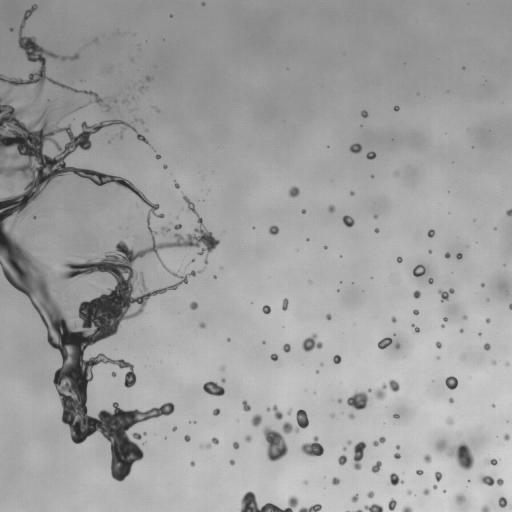droplet: (300, 435, 324, 457), (301, 333, 323, 352), (202, 381, 225, 397), (266, 404, 283, 420), (387, 472, 404, 486), (376, 337, 392, 349), (370, 460, 382, 475), (454, 490, 466, 505), (445, 376, 458, 389), (250, 413, 262, 427), (413, 264, 425, 277), (288, 186, 300, 198), (342, 215, 354, 227), (349, 142, 362, 153), (497, 496, 508, 508), (388, 497, 397, 511), (337, 454, 348, 465), (75, 110, 86, 121), (124, 129, 135, 140), (64, 155, 75, 166), (13, 185, 24, 196), (332, 209, 343, 220), (163, 215, 174, 226), (203, 221, 214, 232), (206, 262, 217, 273), (200, 270, 211, 281), (270, 300, 281, 311), (117, 319, 128, 330), (464, 324, 475, 335), (291, 340, 302, 351), (82, 348, 93, 359), (51, 357, 62, 368), (209, 394, 220, 405), (444, 404, 455, 415), (87, 407, 98, 418), (262, 413, 273, 424), (271, 420, 282, 431), (60, 424, 71, 435), (91, 429, 102, 440), (281, 432, 292, 443), (219, 437, 230, 448), (449, 437, 460, 448), (100, 438, 111, 449), (257, 439, 268, 450), (383, 441, 394, 452), (467, 445, 478, 456), (102, 450, 113, 461), (448, 455, 459, 466), (360, 456, 371, 467), (130, 460, 141, 471), (470, 461, 481, 472), (333, 464, 344, 475), (424, 464, 435, 475), (485, 465, 496, 476), (456, 466, 467, 477), (379, 467, 390, 478), (232, 499, 243, 510), (121, 93, 130, 106), (268, 225, 279, 235), (422, 453, 432, 463), (411, 323, 420, 334), (242, 400, 251, 411), (434, 470, 442, 482), (281, 298, 288, 311), (262, 304, 271, 314), (282, 342, 290, 353), (189, 301, 198, 310), (445, 416, 454, 425), (22, 28, 31, 37), (72, 126, 81, 135), (123, 172, 132, 181), (347, 209, 356, 218), (178, 227, 187, 236), (154, 234, 163, 243), (146, 296, 155, 305), (411, 298, 420, 307), (412, 315, 421, 324), (275, 347, 284, 356), (91, 364, 100, 373), (372, 380, 381, 389), (85, 382, 94, 391), (357, 384, 366, 393), (120, 402, 129, 411), (138, 403, 147, 412), (54, 405, 63, 414), (244, 410, 253, 419), (124, 428, 133, 437), (229, 449, 238, 458), (345, 449, 354, 458), (429, 449, 438, 458), (417, 460, 426, 469), (447, 488, 456, 497), (278, 500, 287, 509), (366, 151, 376, 159), (333, 354, 341, 364), (350, 493, 358, 503), (327, 204, 335, 213), (270, 353, 279, 361), (244, 434, 252, 443), (173, 179, 180, 189), (480, 504, 490, 511), (401, 505, 412, 511), (505, 476, 511, 487), (454, 505, 465, 511), (491, 505, 502, 511), (360, 110, 368, 118), (413, 290, 421, 298), (483, 342, 491, 350), (332, 477, 340, 485), (366, 490, 374, 498), (89, 37, 98, 44), (174, 223, 182, 230), (427, 229, 434, 237), (198, 321, 206, 328), (212, 408, 220, 415), (348, 412, 355, 420), (503, 433, 510, 441), (232, 441, 239, 449), (393, 452, 401, 459), (422, 488, 430, 495), (23, 0, 34, 5), (0, 81, 5, 92), (0, 174, 5, 185), (0, 190, 5, 201), (34, 38, 41, 45), (18, 48, 25, 55), (56, 48, 63, 55), (44, 55, 51, 62), (34, 60, 41, 67), (44, 69, 51, 76), (21, 73, 28, 80), (128, 100, 135, 107), (119, 103, 126, 110), (135, 111, 142, 118), (59, 120, 66, 127), (113, 123, 120, 130), (88, 133, 95, 140), (360, 147, 367, 154), (86, 163, 93, 170), (97, 166, 104, 173), (133, 182, 140, 189), (284, 183, 291, 190), (149, 215, 156, 222), (212, 232, 219, 239), (449, 251, 456, 258), (420, 274, 427, 281), (298, 334, 305, 341), (53, 348, 60, 355), (112, 353, 119, 360), (496, 360, 503, 367), (112, 364, 119, 371), (395, 377, 402, 384), (384, 386, 391, 393), (448, 388, 455, 395), (277, 405, 284, 412), (348, 405, 355, 412), (107, 406, 114, 413), (159, 413, 166, 420), (281, 414, 288, 421), (147, 417, 154, 424), (291, 420, 298, 427), (257, 422, 264, 429), (448, 424, 455, 431), (128, 435, 135, 442), (306, 437, 313, 444), (351, 438, 358, 445), (238, 439, 245, 446), (201, 447, 208, 454), (261, 452, 268, 459), (311, 454, 318, 461), (279, 455, 286, 462), (124, 474, 131, 481), (436, 480, 443, 487), (238, 490, 245, 497), (416, 490, 423, 497), (463, 490, 470, 497), (366, 498, 373, 505), (462, 499, 469, 506), (256, 501, 263, 508), (304, 501, 311, 508), (505, 208, 511, 216), (435, 341, 441, 349), (184, 434, 190, 442), (506, 495, 511, 504), (393, 506, 402, 511), (500, 506, 509, 511), (444, 251, 450, 258), (396, 256, 402, 263), (413, 309, 420, 315), (325, 313, 331, 320), (219, 364, 225, 371), (447, 397, 454, 403), (286, 408, 292, 415), (456, 430, 462, 437), (228, 459, 235, 465), (416, 469, 423, 475), (410, 505, 417, 511), (456, 253, 462, 259), (0, 271, 4, 280), (428, 277, 433, 284), (391, 316, 396, 323), (393, 106, 399, 111), (155, 154, 161, 159), (395, 343, 400, 349), (111, 371, 116, 377), (337, 398, 343, 403), (393, 413, 399, 418), (190, 460, 195, 466), (302, 480, 308, 485), (406, 489, 411, 495), (507, 215, 511, 222), (291, 507, 298, 511), (382, 507, 389, 511), (474, 507, 481, 511), (349, 190, 354, 195), (301, 209, 306, 214), (373, 214, 378, 219), (374, 228, 379, 233), (480, 282, 485, 287), (462, 315, 467, 320), (485, 318, 490, 323), (491, 360, 496, 365), (505, 361, 510, 366), (172, 426, 177, 431), (395, 444, 400, 449), (432, 484, 437, 489), (26, 4, 31, 9), (31, 10, 36, 15), (19, 12, 24, 17), (25, 18, 30, 23), (14, 25, 19, 30), (14, 35, 19, 40), (14, 41, 19, 46), (51, 48, 56, 53), (69, 51, 74, 56), (78, 51, 83, 56), (55, 57, 60, 62), (64, 58, 69, 63), (73, 58, 78, 63), (147, 71, 152, 76), (51, 75, 56, 80), (140, 76, 145, 81), (61, 79, 66, 84), (143, 80, 148, 85), (128, 81, 133, 86), (136, 81, 141, 86), (71, 83, 76, 88), (123, 88, 128, 93), (135, 90, 140, 95), (98, 93, 103, 98), (116, 96, 121, 101), (116, 100, 121, 105), (92, 101, 97, 106), (109, 101, 114, 106), (150, 108, 155, 113), (366, 109, 371, 114), (70, 112, 75, 117), (114, 114, 119, 119), (122, 116, 127, 121), (86, 121, 91, 126), (99, 127, 104, 132), (126, 127, 131, 132), (131, 131, 136, 136), (141, 131, 146, 136), (144, 134, 149, 139), (114, 135, 119, 140), (357, 139, 362, 144), (139, 140, 144, 145), (345, 143, 350, 148), (88, 146, 93, 151), (352, 152, 357, 157), (368, 158, 373, 163), (74, 163, 79, 168), (82, 164, 87, 169), (176, 179, 181, 184), (297, 185, 302, 190), (352, 187, 357, 192), (177, 193, 182, 198), (293, 195, 298, 200), (189, 197, 194, 202), (151, 199, 156, 204), (330, 200, 335, 205), (182, 201, 187, 206), (299, 204, 304, 209), (323, 204, 328, 209), (505, 205, 510, 210), (194, 206, 199, 211), (154, 209, 159, 214), (187, 209, 192, 214), (371, 209, 376, 214), (326, 211, 331, 216), (340, 211, 345, 216), (501, 211, 506, 216), (163, 213, 168, 218), (193, 216, 198, 221), (174, 219, 179, 224), (194, 222, 199, 227), (340, 222, 345, 227), (149, 223, 154, 228), (169, 224, 174, 229), (264, 225, 269, 230), (277, 225, 282, 230), (349, 225, 354, 230), (175, 228, 180, 233), (423, 228, 428, 233), (189, 229, 194, 234), (277, 229, 282, 234), (422, 231, 427, 236), (433, 232, 438, 237), (269, 233, 274, 238), (273, 233, 278, 238), (171, 237, 176, 242), (154, 239, 159, 244), (215, 243, 220, 248), (206, 262, 211, 267), (186, 275, 191, 280), (4, 280, 9, 285), (7, 283, 12, 288), (336, 283, 341, 288), (451, 284, 456, 289), (443, 286, 448, 291), (12, 287, 17, 292), (409, 288, 414, 293), (165, 289, 170, 294), (17, 290, 22, 295), (155, 292, 160, 297), (419, 292, 424, 297), (447, 292, 452, 297), (149, 294, 154, 299), (409, 294, 414, 299), (193, 297, 198, 302), (414, 297, 419, 302), (196, 300, 201, 305), (185, 303, 190, 308), (286, 303, 291, 308), (269, 305, 274, 310), (504, 305, 509, 310), (189, 308, 194, 313), (137, 313, 142, 318), (330, 313, 335, 318), (466, 313, 471, 318), (483, 313, 488, 318), (133, 315, 138, 320), (321, 315, 326, 320), (36, 316, 41, 321), (386, 317, 391, 322), (489, 317, 494, 322), (202, 318, 207, 323), (327, 319, 332, 324), (193, 321, 198, 326), (414, 322, 419, 327), (41, 325, 46, 330), (198, 327, 203, 332), (306, 332, 311, 337), (386, 332, 391, 337), (42, 335, 47, 340), (488, 340, 493, 345), (440, 341, 445, 346), (479, 341, 484, 346), (46, 343, 51, 348), (321, 343, 326, 348), (399, 343, 404, 348), (385, 345, 390, 350), (312, 346, 317, 351), (488, 347, 493, 352), (300, 348, 305, 353), (105, 352, 110, 357), (329, 352, 334, 357), (339, 353, 344, 358), (123, 357, 128, 362), (339, 359, 344, 364), (315, 364, 320, 369), (125, 366, 130, 371), (132, 368, 137, 373), (220, 372, 225, 377), (444, 372, 449, 377), (134, 373, 139, 378), (49, 374, 54, 379), (204, 377, 209, 382), (456, 377, 461, 382), (134, 378, 139, 383), (49, 381, 54, 386), (217, 381, 222, 386), (377, 382, 382, 387), (456, 382, 461, 387), (198, 383, 203, 388), (398, 383, 403, 388), (130, 384, 135, 389), (443, 385, 448, 390), (452, 387, 457, 392), (203, 391, 208, 396), (347, 392, 352, 397), (213, 394, 218, 399), (217, 394, 222, 399), (333, 394, 338, 399), (242, 395, 247, 400), (342, 397, 347, 402), (246, 400, 251, 405), (333, 400, 338, 405), (365, 400, 370, 405), (84, 401, 89, 406), (155, 403, 160, 408), (238, 403, 243, 408), (268, 403, 273, 408), (211, 404, 216, 409), (173, 405, 178, 410), (301, 405, 306, 410), (208, 408, 213, 413), (269, 409, 274, 414), (291, 410, 296, 415), (334, 411, 339, 416), (168, 412, 173, 417), (306, 414, 311, 419), (347, 418, 352, 423), (305, 424, 310, 429), (298, 426, 303, 431), (215, 434, 220, 439), (498, 434, 503, 439), (85, 435, 90, 440), (189, 435, 194, 440), (344, 435, 349, 440), (374, 435, 379, 440), (206, 437, 211, 442), (317, 439, 322, 444), (69, 440, 74, 445), (186, 440, 191, 445), (383, 440, 388, 445), (341, 441, 346, 446), (210, 442, 215, 447), (320, 442, 325, 447), (377, 442, 382, 447), (228, 443, 233, 448), (362, 447, 367, 452), (233, 448, 238, 453), (322, 448, 327, 453), (393, 448, 398, 453), (341, 450, 346, 455), (440, 450, 445, 455), (231, 455, 236, 460), (392, 457, 397, 462), (333, 458, 338, 463), (358, 459, 363, 464), (194, 460, 199, 465), (371, 460, 376, 465), (225, 462, 230, 467), (416, 465, 421, 470), (106, 467, 111, 472), (437, 467, 442, 472), (352, 468, 357, 473), (370, 471, 375, 476), (335, 473, 340, 478), (397, 474, 402, 479), (385, 476, 390, 481), (327, 477, 332, 482), (112, 478, 117, 483), (432, 479, 437, 484), (502, 480, 507, 485), (396, 481, 401, 486), (334, 483, 339, 488), (389, 483, 394, 488), (483, 483, 488, 488), (427, 485, 432, 490), (249, 487, 254, 492), (424, 494, 429, 499), (494, 496, 499, 501), (310, 500, 315, 505), (130, 57, 134, 63), (221, 377, 225, 383), (201, 1, 205, 6), (143, 128, 148, 132), (163, 164, 167, 169), (394, 171, 398, 176), (428, 249, 432, 254), (308, 279, 312, 284), (443, 317, 447, 322), (440, 324, 445, 328), (459, 328, 463, 333), (478, 332, 482, 337), (226, 337, 230, 342), (262, 340, 266, 345), (305, 237, 309, 241), (323, 245, 327, 249), (213, 275, 217, 279), (315, 369, 319, 373), (313, 390, 317, 394), (491, 403, 495, 407), (442, 489, 446, 493), (508, 298, 511, 303), (508, 364, 511, 369), (508, 433, 511, 438), (318, 508, 323, 511), (364, 508, 369, 511), (169, 14, 173, 17), (9, 28, 13, 31), (371, 174, 374, 178), (175, 215, 178, 219), (118, 226, 122, 229), (493, 227, 497, 230), (502, 263, 506, 266), (219, 266, 223, 269), (486, 298, 489, 302), (436, 356, 440, 359), (320, 362, 323, 366), (198, 0, 203, 2), (202, 0, 207, 2), (462, 66, 465, 69), (416, 92, 419, 95), (107, 140, 110, 143), (326, 145, 329, 148), (252, 226, 255, 229), (466, 245, 469, 248), (296, 249, 299, 252), (339, 254, 342, 257), (370, 276, 373, 279), (250, 301, 253, 304), (393, 333, 396, 336), (431, 379, 434, 382), (236, 419, 239, 422), (164, 436, 167, 439), (467, 479, 470, 482), (198, 3, 201, 6), (201, 5, 204, 8), (170, 11, 173, 14), (172, 14, 175, 17), (169, 17, 172, 20), (9, 24, 12, 27), (6, 28, 9, 31), (460, 63, 463, 66), (463, 63, 466, 66), (464, 67, 467, 70), (460, 68, 463, 71), (76, 87, 79, 90), (86, 88, 89, 91), (92, 89, 95, 92), (133, 94, 136, 97), (127, 97, 130, 100), (130, 99, 133, 102), (395, 102, 398, 105), (398, 104, 401, 107), (390, 106, 393, 109), (78, 108, 81, 111), (109, 108, 112, 111), (132, 110, 135, 113), (395, 110, 398, 113), (359, 115, 362, 118), (365, 116, 368, 119), (142, 118, 145, 121), (79, 120, 82, 123), (117, 133, 120, 136), (110, 139, 113, 142), (148, 140, 151, 143), (327, 142, 330, 145), (468, 146, 471, 149), (327, 147, 330, 150), (374, 150, 377, 153), (156, 151, 159, 154), (153, 157, 156, 160), (158, 157, 161, 160), (166, 164, 169, 167), (160, 166, 163, 169), (163, 168, 166, 171), (367, 175, 370, 178), (373, 175, 376, 178), (172, 176, 175, 179), (171, 181, 174, 184), (172, 185, 175, 188), (178, 186, 181, 189), (444, 190, 447, 193), (347, 193, 350, 196), (351, 194, 354, 197), (298, 209, 301, 212), (305, 210, 308, 213), (301, 213, 304, 216), (370, 215, 373, 218), (376, 216, 379, 219), (159, 217, 162, 220), (201, 220, 204, 223), (493, 223, 496, 226), (249, 224, 252, 227), (254, 224, 257, 227), (430, 226, 433, 229), (254, 227, 257, 230), (378, 227, 381, 230), (496, 227, 499, 230), (371, 228, 374, 231), (492, 229, 495, 232), (375, 232, 378, 235), (303, 236, 306, 239), (427, 236, 430, 239), (307, 240, 310, 243), (322, 242, 325, 245), (428, 246, 431, 249), (322, 248, 325, 251), (425, 250, 428, 253), (431, 250, 434, 253), (459, 250, 462, 253), (339, 251, 342, 254), (442, 251, 445, 254), (336, 253, 339, 256), (428, 253, 431, 256), (342, 254, 345, 257), (461, 255, 464, 258), (401, 256, 404, 259), (338, 257, 341, 260), (393, 257, 396, 260), (444, 257, 447, 260), (458, 258, 461, 261), (401, 259, 404, 262), (394, 260, 397, 263), (501, 260, 504, 263), (421, 262, 424, 265), (412, 264, 415, 267), (195, 272, 198, 275), (410, 272, 413, 275), (215, 273, 218, 276), (370, 273, 373, 276), (209, 274, 212, 277), (413, 275, 416, 278), (418, 275, 421, 278), (211, 277, 214, 280), (339, 277, 342, 280), (351, 278, 354, 281), (336, 280, 339, 283), (342, 280, 345, 283), (432, 280, 435, 283), (348, 281, 351, 284), (351, 283, 354, 286), (428, 283, 431, 286), (478, 285, 481, 288), (483, 285, 486, 288), (333, 289, 336, 292), (338, 290, 341, 293), (453, 290, 456, 293), (262, 302, 265, 305), (267, 303, 270, 306), (259, 305, 262, 308), (279, 305, 282, 308), (414, 306, 417, 309), (195, 307, 198, 310), (33, 308, 36, 311), (410, 311, 413, 314), (464, 312, 467, 315), (442, 314, 445, 317), (394, 315, 397, 318), (446, 315, 449, 318), (459, 316, 462, 319), (482, 319, 485, 322), (441, 320, 444, 323), (390, 321, 393, 324), (438, 325, 441, 328), (457, 326, 460, 329), (441, 327, 444, 330), (419, 328, 422, 331), (463, 329, 466, 332), (477, 329, 480, 332), (395, 332, 398, 335), (459, 332, 462, 335), (480, 333, 483, 336), (475, 334, 478, 337), (229, 336, 232, 339), (261, 337, 264, 340), (223, 338, 226, 341), (377, 338, 380, 341), (229, 339, 232, 342), (226, 341, 229, 344), (259, 341, 262, 344), (265, 341, 268, 344), (281, 342, 284, 345), (374, 343, 377, 346), (433, 344, 436, 347), (289, 347, 292, 350), (377, 347, 380, 350), (435, 347, 438, 350), (483, 349, 486, 352), (271, 350, 274, 353), (268, 352, 271, 355), (439, 355, 442, 358), (118, 356, 121, 359), (433, 357, 436, 360), (270, 359, 273, 362), (275, 359, 278, 362), (436, 359, 439, 362), (495, 359, 498, 362), (331, 361, 334, 364), (318, 369, 321, 372), (312, 370, 315, 373), (108, 371, 111, 374), (315, 373, 318, 376), (449, 373, 452, 376), (109, 375, 112, 378), (443, 376, 446, 379), (442, 380, 445, 383), (112, 399, 115, 402), (115, 399, 118, 402), (446, 400, 449, 403), (493, 401, 496, 404), (449, 402, 452, 405), (299, 406, 302, 409), (491, 407, 494, 410), (218, 411, 221, 414), (396, 411, 399, 414), (399, 414, 402, 417), (327, 415, 330, 418), (392, 417, 395, 420), (190, 418, 193, 421), (502, 419, 505, 422), (190, 422, 193, 425), (193, 423, 196, 426), (170, 424, 173, 427), (174, 429, 177, 432), (146, 431, 149, 434), (140, 433, 143, 436), (161, 435, 164, 438), (166, 436, 169, 439), (181, 436, 184, 439), (163, 439, 166, 442), (396, 441, 399, 444), (399, 444, 402, 447), (495, 457, 498, 460), (378, 458, 381, 461), (187, 462, 190, 465), (489, 463, 492, 466), (379, 465, 382, 468), (415, 473, 418, 476), (420, 473, 423, 476), (439, 478, 442, 481), (465, 481, 468, 484), (444, 491, 447, 494), (352, 492, 355, 495), (410, 492, 413, 495), (394, 498, 397, 501), (360, 124, 362, 127), (473, 219, 475, 222), (169, 222, 172, 224), (339, 281, 342, 283), (337, 289, 339, 292), (506, 420, 509, 422), (509, 361, 511, 364), (509, 419, 511, 422), (472, 146, 474, 148), (202, 199, 204, 201), (448, 212, 450, 214), (331, 399, 333, 401), (352, 282, 353, 284), (496, 436, 498, 437), (402, 472, 404, 473), (80, 80, 81, 81), (448, 191, 449, 192), (282, 326, 283, 327), (324, 476, 325, 477), (414, 494, 415, 495)
ligament: (346, 378, 400, 410), (434, 439, 473, 470), (351, 440, 367, 470), (477, 472, 503, 486), (345, 503, 383, 511), (138, 75, 153, 94), (199, 436, 219, 449), (298, 504, 321, 511), (372, 436, 385, 447), (131, 431, 146, 439), (482, 457, 497, 465), (342, 440, 352, 451), (151, 106, 159, 113), (128, 107, 139, 112), (329, 413, 337, 419), (188, 420, 196, 423), (142, 440, 146, 445), (509, 303, 511, 310), (509, 504, 511, 509)
